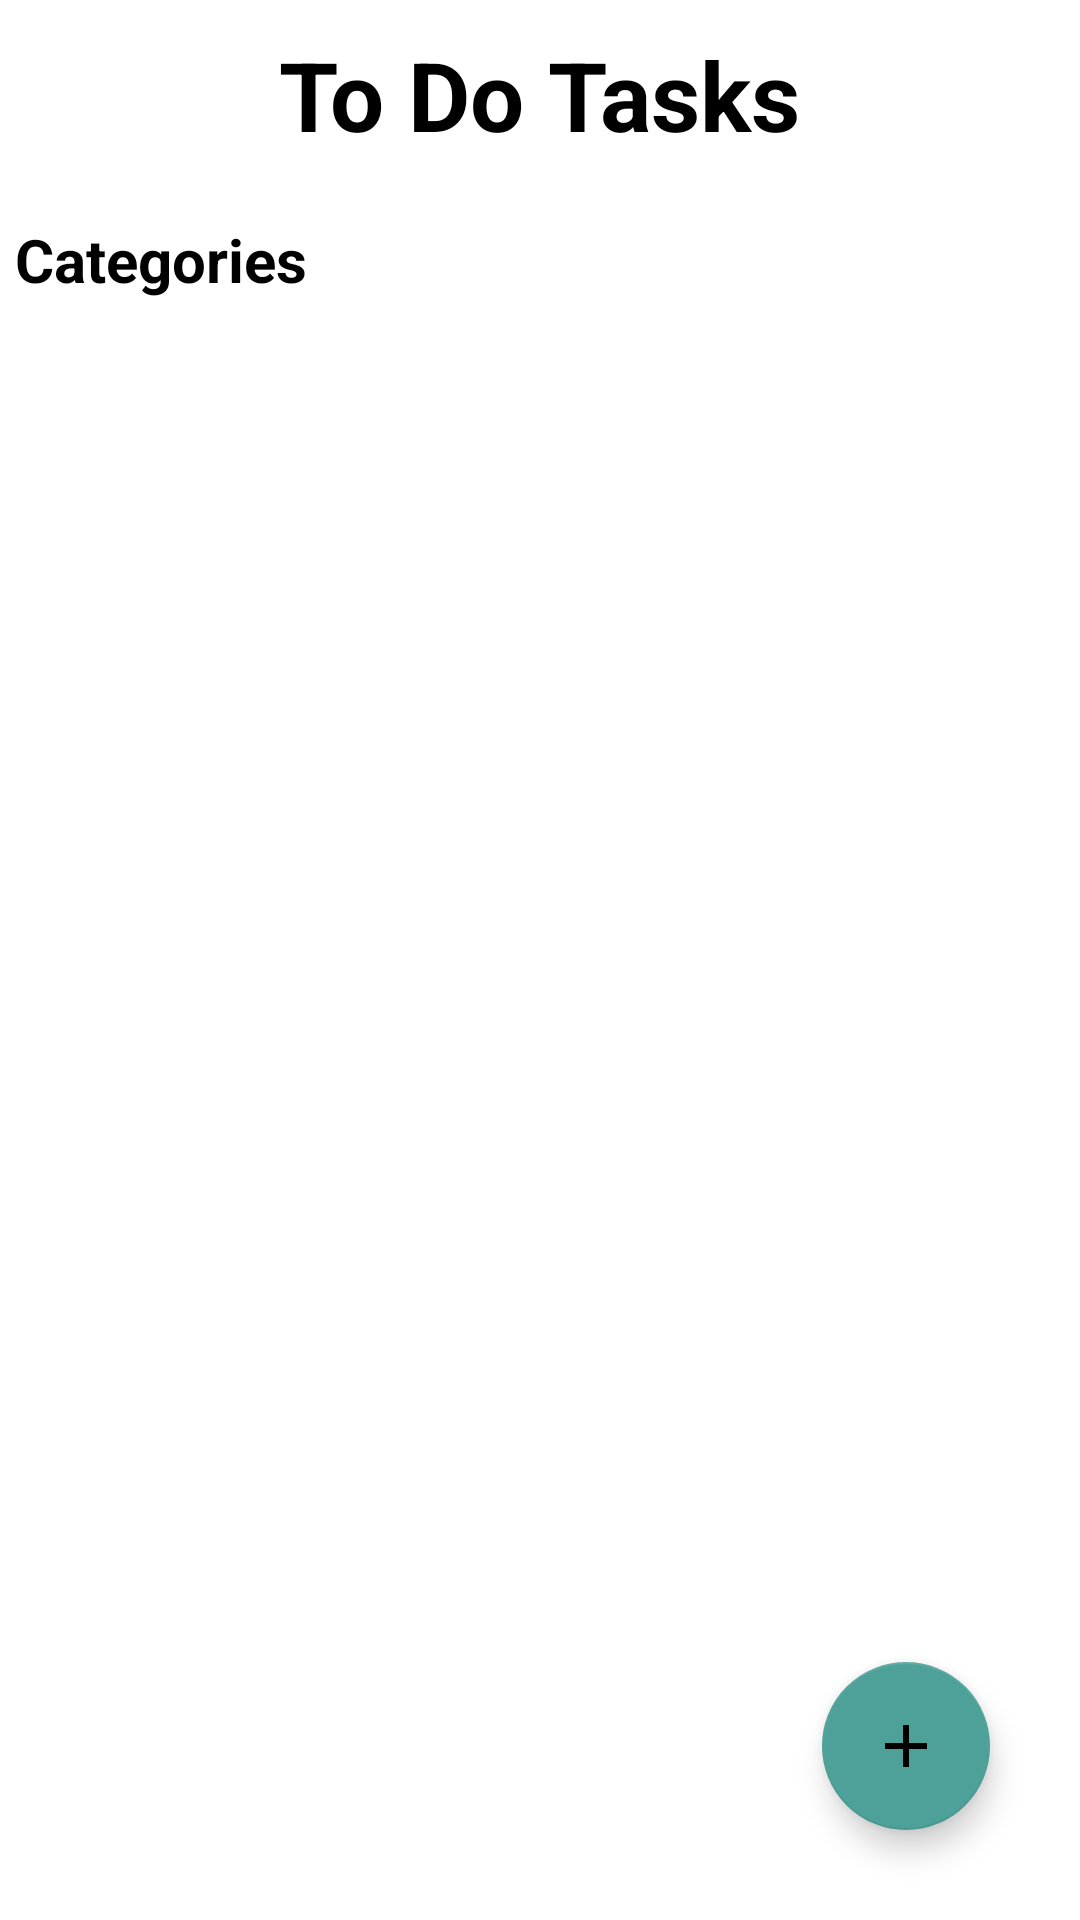

Named icons in this screenshot (1080w x 1920h) and their bounding boxes, box=[x1, y1, x2, y2]:
Tap on this to add New Category: box=[822, 1662, 990, 1830]
